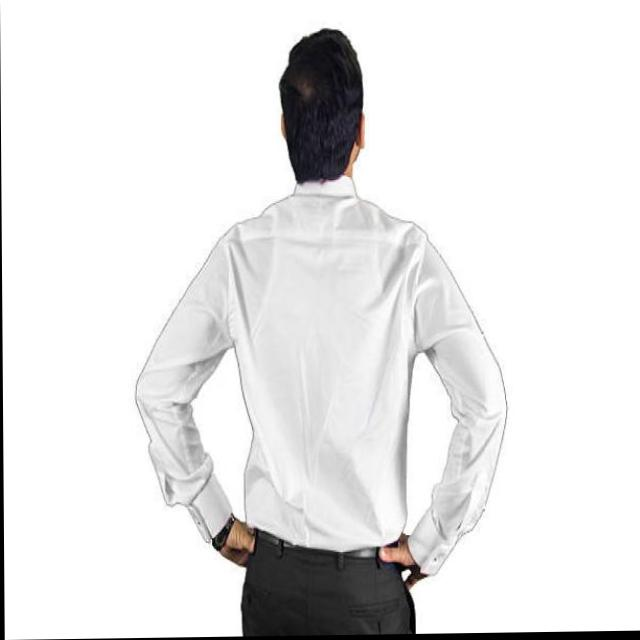no helmet: (273, 21, 392, 217)
